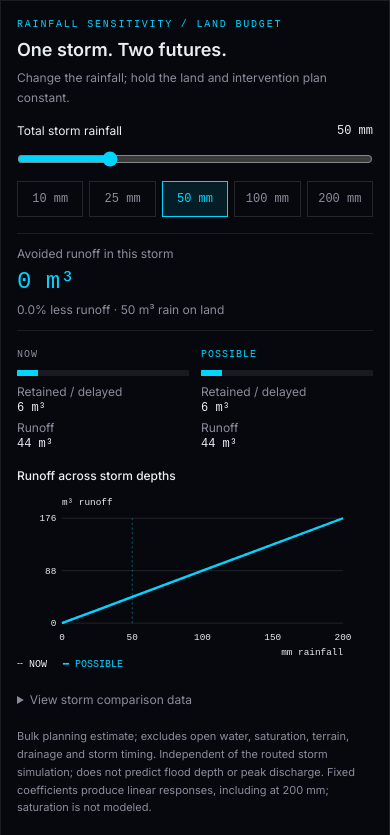
Scenario: StormComparison › updates the conserved comparison when storm depth or scenario changes
Later steps or results of the test are not shown.
Expected: the slider holds "50", [17,151,373,167]
Click the button "100 mm" at (267, 199), box [234,181,301,217]
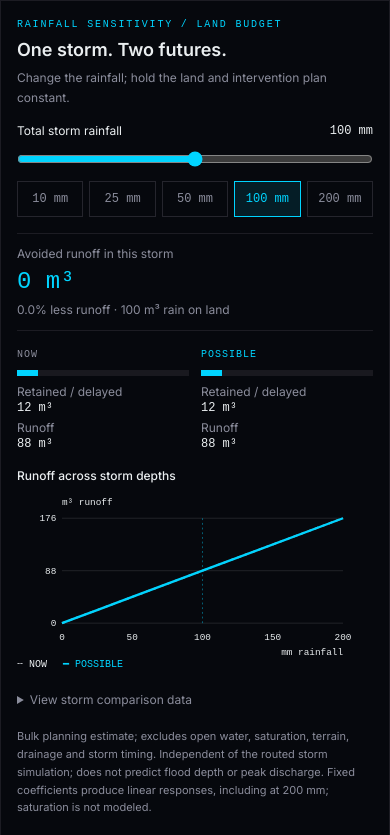
Expected: the slider holds "100", [17,151,373,167]
